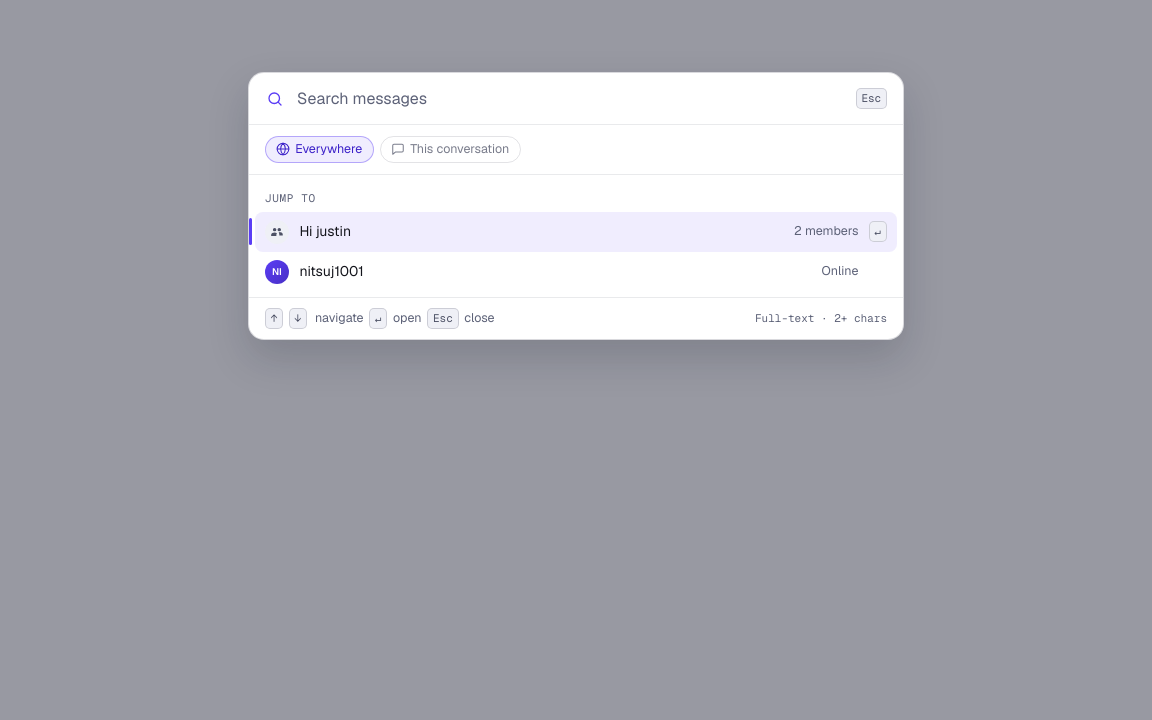
Test case: SearchPalette › says so when nothing matches
In the dropdown labelled "Search messages": {"x": 570, "y": 99} [297,87,844,111], type "redi5"
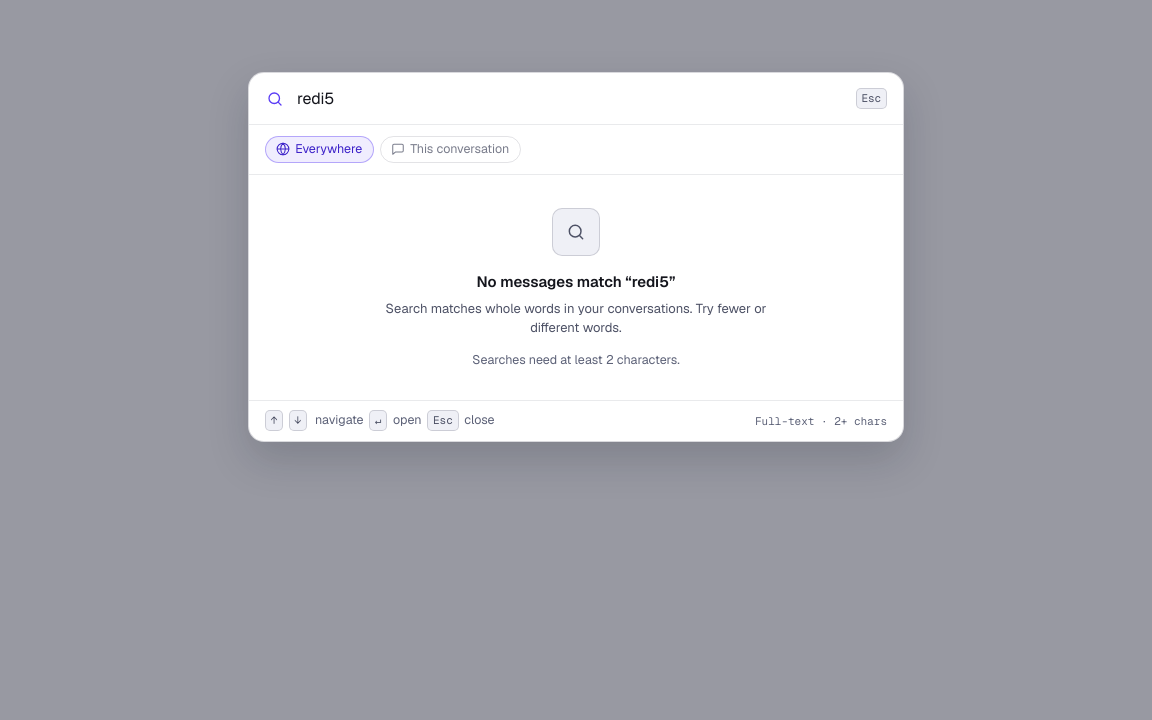
Expected: the text "No messages match “redi5”" is shown, [476,270,675,293]
